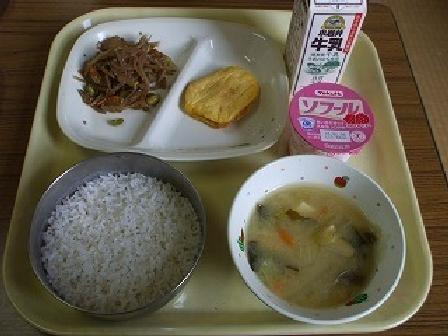Cup desserts: (279, 84, 387, 165)
Milk: (281, 3, 372, 94)
Rice: (28, 155, 215, 315)
Soups: (230, 165, 402, 315)
cooked food based on meat: (75, 33, 177, 122)
pastry: (179, 65, 267, 134)
